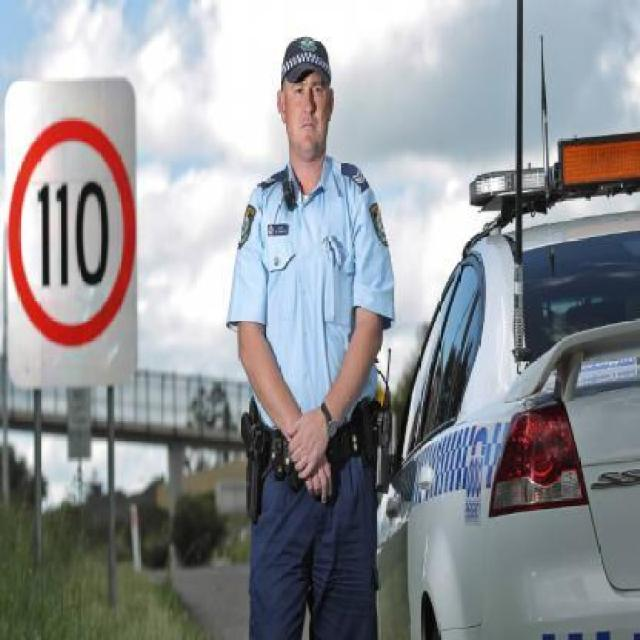speed limit 110: (9, 118, 139, 347)
